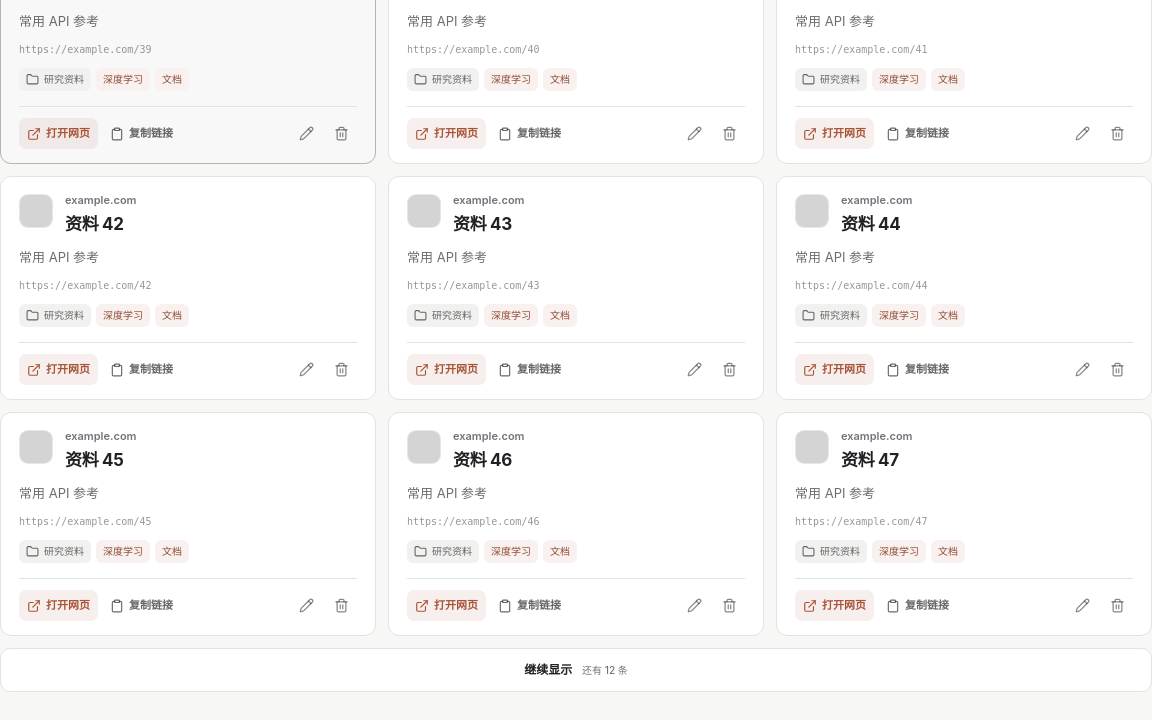
Test: BookmarksPage › renders large bookmark libraries progressively
(page scrolled)
Click the button "继续显示 还有 12 条" at (576, 670), box left=0, top=648, right=1151, bottom=692
(page scrolled)
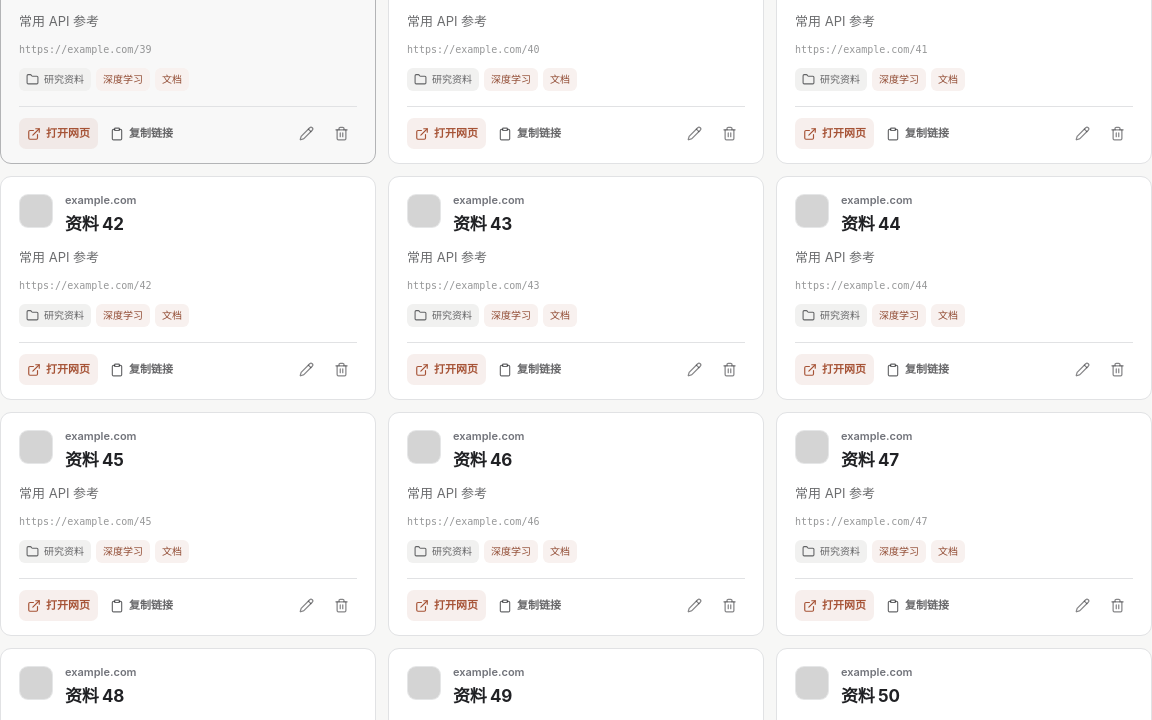
Now the button "继续显示" is gone
